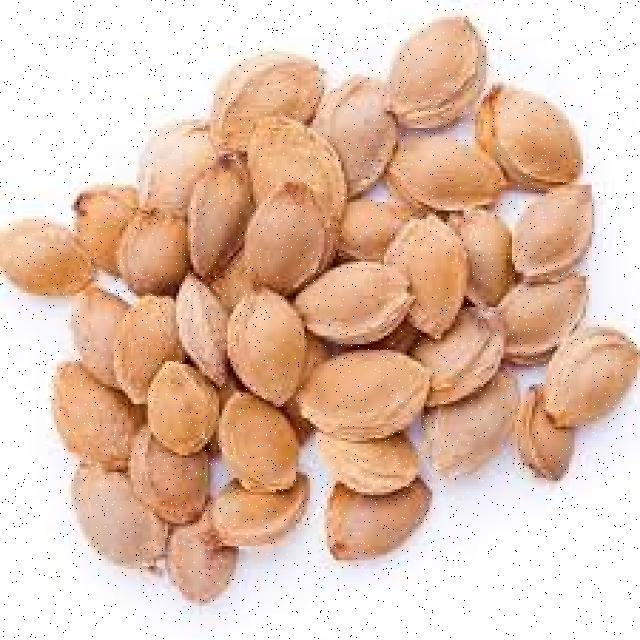kayisi_cekirdegi: (14, 28, 640, 610)
